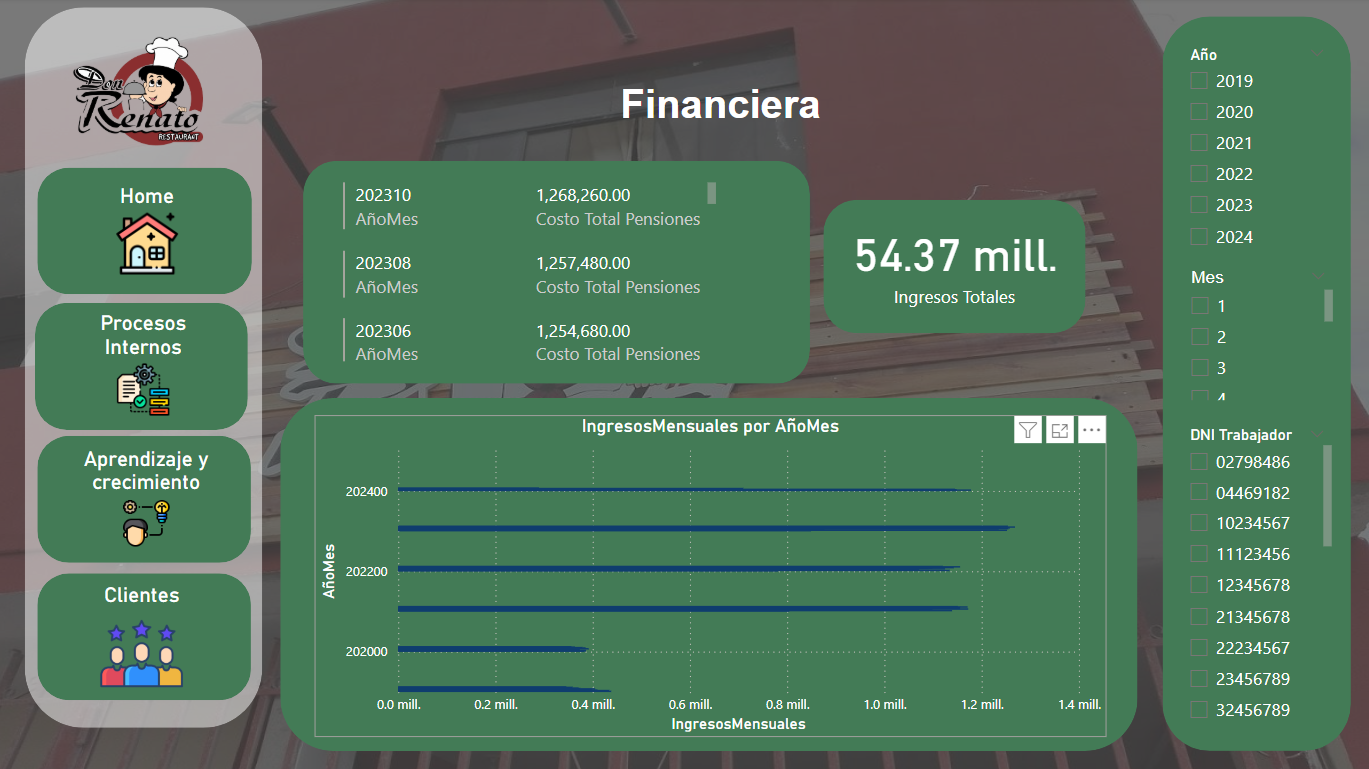

Layout of this report page (visuals, bound fields, positions):
{"tool":"powerbi","page":{"name":"Financiera","canvas":[1280,720],"ordinal":1},"visuals":[{"type":"shape","box":[285.8,151.1,472.2,207.8],"z":0},{"type":"shape","box":[264.4,372.2,798.9,328.9],"z":1000},{"type":"shape","box":[770.6,187.8,244.4,124.4],"z":2000},{"type":"shape","box":[27.1,8.6,221.4,671.4],"z":3000},{"type":"image","box":[42.9,8.6,185.7,151.4],"z":4000},{"type":"card","fields":{"Values":["Medidas.Ingresos Totales"]},"box":[775.1,184.5,235.6,122.2],"z":5000},{"type":"shape","box":[37.9,158.3,200,118.2],"z":6000},{"type":"shape","box":[38.5,407.7,199.2,118.5],"z":7000},{"type":"shape","box":[36.2,283.8,198.5,118.5],"z":8000},{"type":"image","title":"Procesos Internos","box":[67.1,291.6,140,102.7],"z":9000},{"type":"image","title":"Aprendizaje y crecimiento","box":[66.9,416.9,145.4,100],"z":10000},{"type":"shape","box":[38.5,536.2,199.2,118.5],"z":11000},{"type":"image","title":"Clientes","box":[69.2,543.8,133.1,110.8],"z":12000},{"type":"image","title":"Home","box":[92.9,172.9,95.7,90],"z":13000},{"type":"barChart","fields":{"Category":["Calentadario.AñoMes"],"Y":["Medidas.IngresosMensuales"]},"box":[296.7,388.9,737.8,300],"z":14000},{"type":"shape","box":[1087,17.1,175.6,684.4],"z":15000},{"type":"slicer","fields":{"Values":["Calentadario.Año"]},"box":[1099.9,39.6,149.9,205.6],"z":16000},{"type":"slicer","fields":{"Values":["Dim_cliente.idTrabajador"]},"box":[1099.9,394.1,149.9,289.2],"z":17000},{"type":"slicer","fields":{"Values":["Calentadario.Mes"]},"box":[1100,245.6,150,134.4],"z":18000},{"type":"textbox","box":[434.4,72.2,481.1,70],"z":19000},{"type":"multiRowCard","fields":{"Values":["Calentadario.AñoMes","Medidas.Costo Total Pensiones"]},"box":[318,166.7,357.8,176.7],"z":20000}]}

Visuals, with their boxes in screenshot pixels (x1, y1, x2, y2), scaled from the page's 1280x720 canvas onto the 1369x769 screenshot:
shape: left=306, top=161, right=811, bottom=383
shape: left=283, top=398, right=1137, bottom=749
shape: left=824, top=201, right=1086, bottom=333
shape: left=29, top=9, right=266, bottom=726
image: left=46, top=9, right=244, bottom=171
card - Medidas.Ingresos Totales: left=829, top=197, right=1081, bottom=328
shape: left=41, top=169, right=254, bottom=295
shape: left=41, top=435, right=254, bottom=562
shape: left=39, top=303, right=251, bottom=430
"Procesos Internos" image: left=72, top=311, right=221, bottom=421
"Aprendizaje y crecimiento" image: left=72, top=445, right=227, bottom=552
shape: left=41, top=573, right=254, bottom=699
"Clientes" image: left=74, top=581, right=216, bottom=699
"Home" image: left=99, top=185, right=202, bottom=281
barChart - Calentadario.AñoMes x Medidas.IngresosMensuales: left=317, top=415, right=1106, bottom=736
shape: left=1163, top=18, right=1350, bottom=749
slicer - Calentadario.Año: left=1176, top=42, right=1337, bottom=262
slicer - Dim_cliente.idTrabajador: left=1176, top=421, right=1337, bottom=730
slicer - Calentadario.Mes: left=1176, top=262, right=1337, bottom=406
textbox: left=465, top=77, right=979, bottom=152
multiRowCard - Calentadario.AñoMes x Medidas.Costo Total Pensiones: left=340, top=178, right=723, bottom=367
